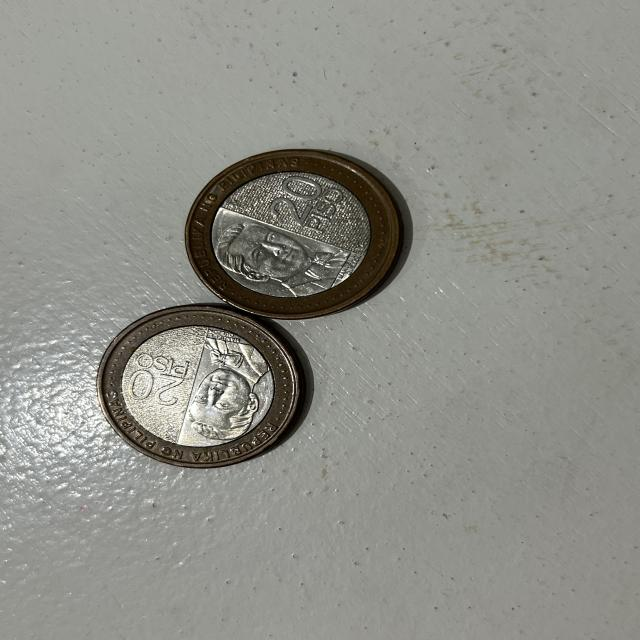20_New_Front: (261, 172, 355, 236), (120, 350, 190, 414)
